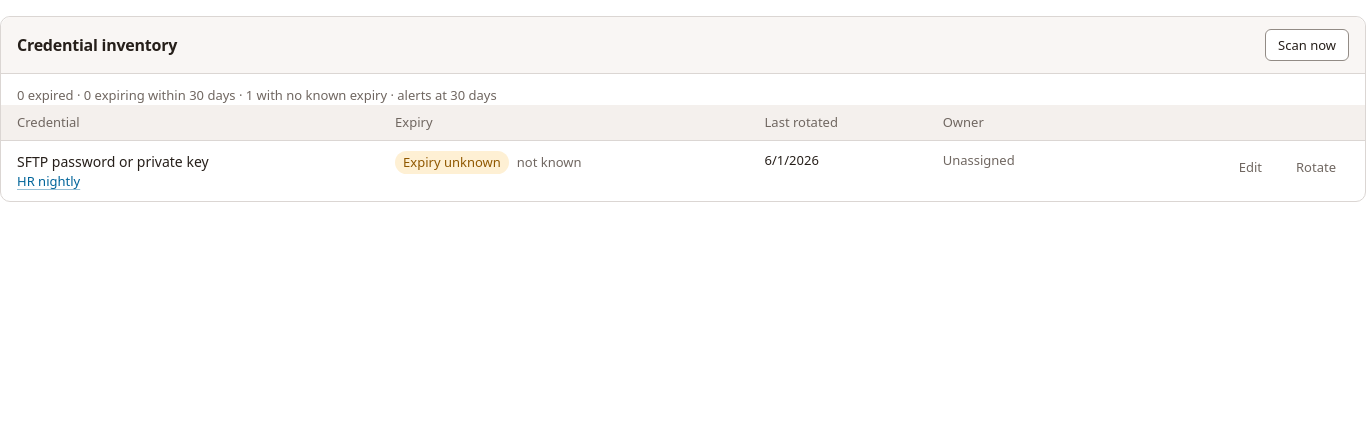
Test: CredentialsTab › stages a new secret without echoing it, then offers the test
The width and height of the screenshot is (1366, 421).
Click the button "Rotate": (1316, 167) [1283, 151, 1349, 183]
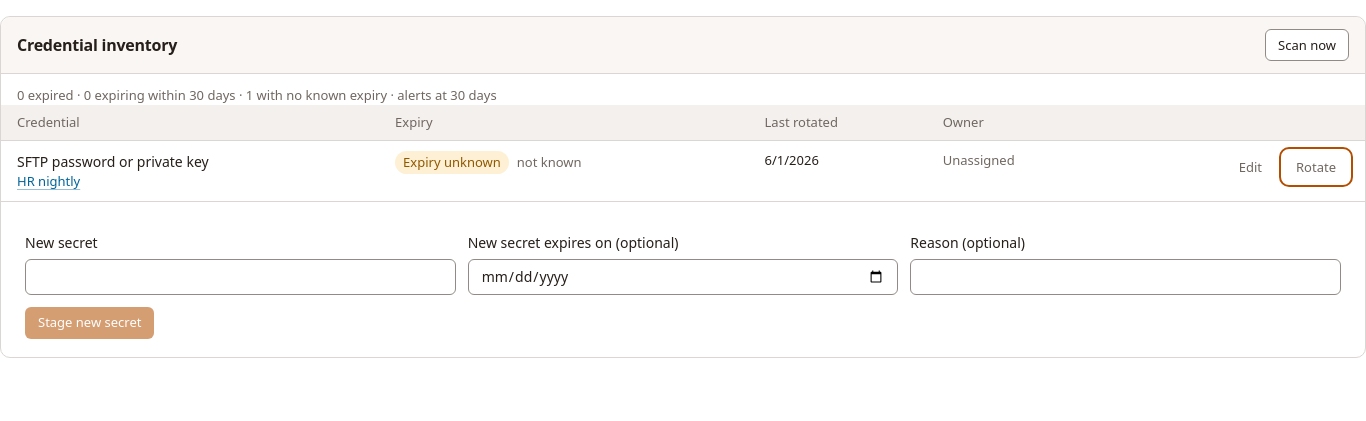
Now the button "Stage new secret" is disabled, box [25, 307, 154, 339]
In the password field labelled "New secret": (240, 277) [25, 259, 456, 295], type "n3w-s3cret"
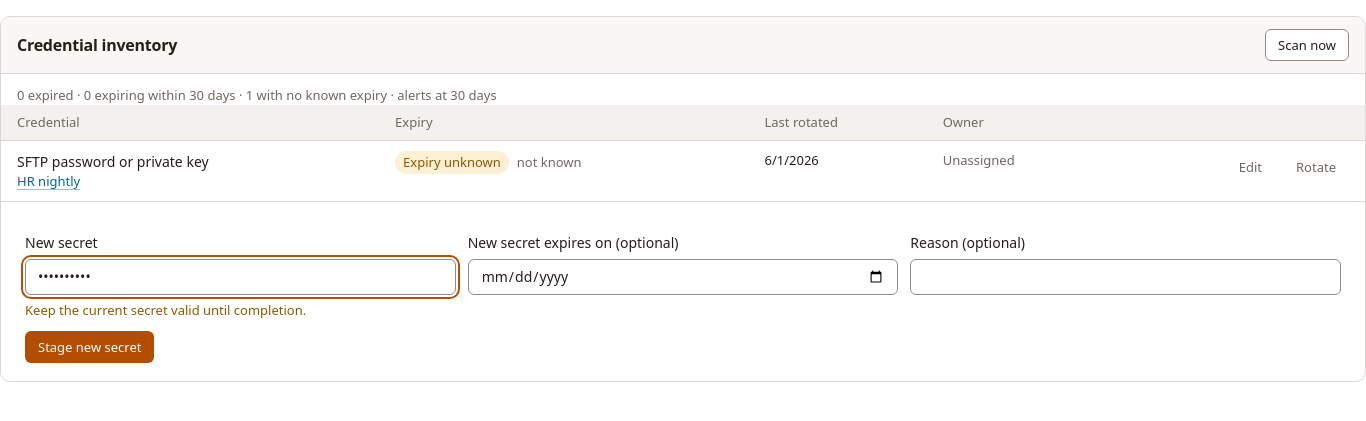
Now the text "Keep the current secret valid until completion." is shown, box [25, 301, 306, 319]
Click the button "Stage new secret": (90, 347) [25, 331, 154, 363]
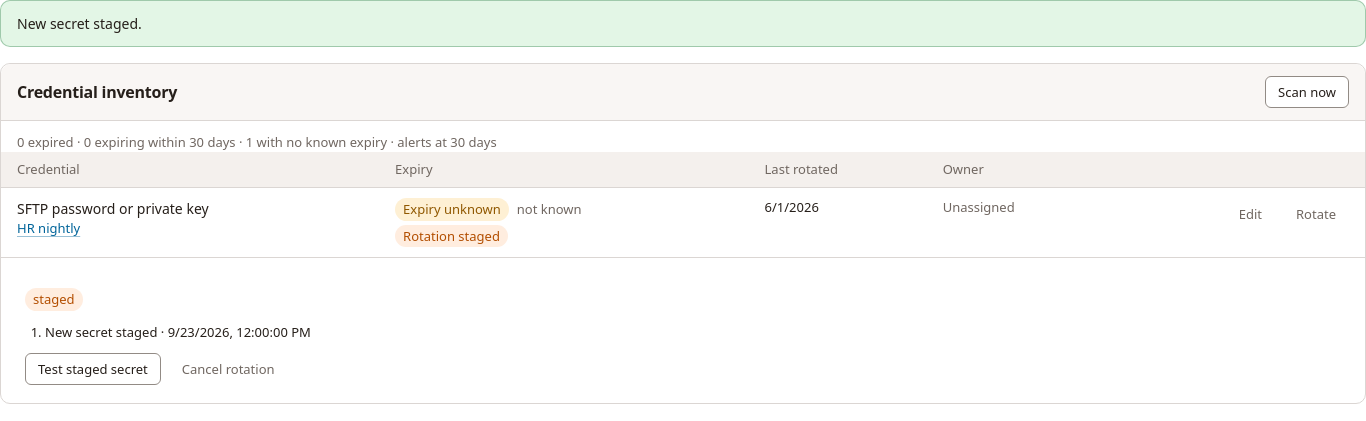
Now the text "New secret staged." is shown, box [17, 14, 142, 33]
Now the button "Test staged secret" is shown, box [25, 353, 161, 385]
Now the button "Cancel rotation" is shown, box [169, 353, 288, 385]
